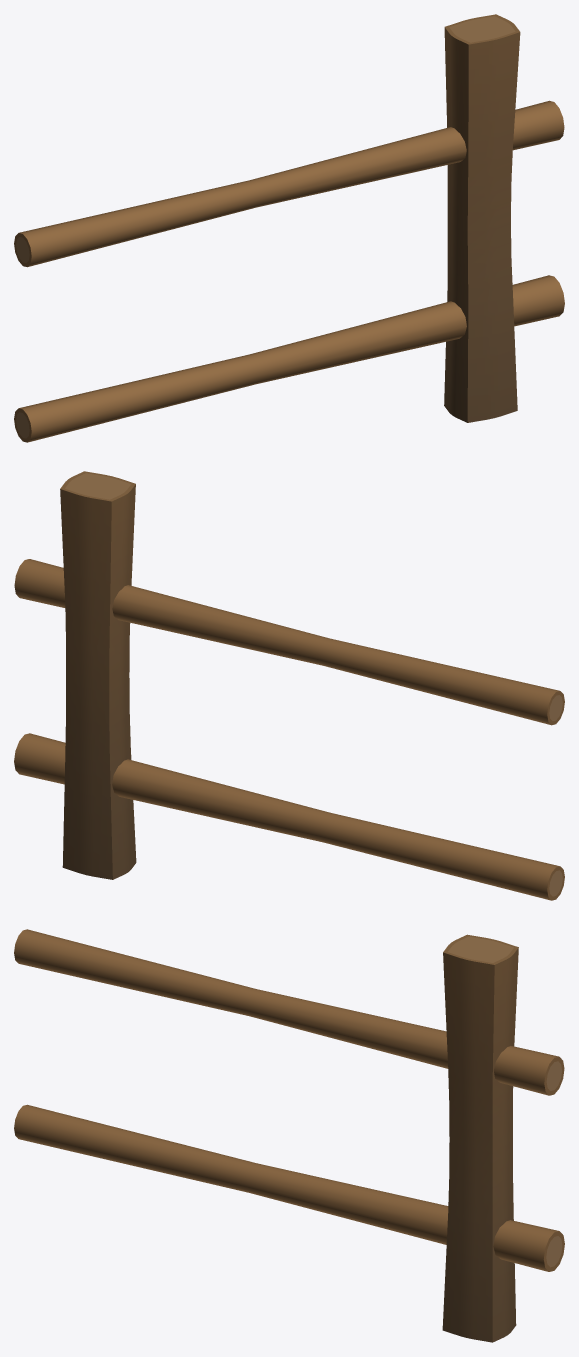
File: Fence_03.fbx
The picture shows the model from 3 angles, top to bottom: view 1: azimuth 30°, elevation 25°; view 2: azimuth 150°, elevation 25°; view 3: azimuth 330°, elevation 25°; orthographic projection.
Visible parts, largest first — view 1: Fence_03_LOD0; view 2: Fence_03_LOD0; view 3: Fence_03_LOD0.
Part boxes in pixels (x1,y1,x2,y2): Fence_03_LOD0: (14, 14, 564, 442); Fence_03_LOD0: (14, 471, 564, 900); Fence_03_LOD0: (14, 929, 564, 1342).
Size of what is drawn, in the model's own units: 1.35 by 0.918 by 0.1221.
